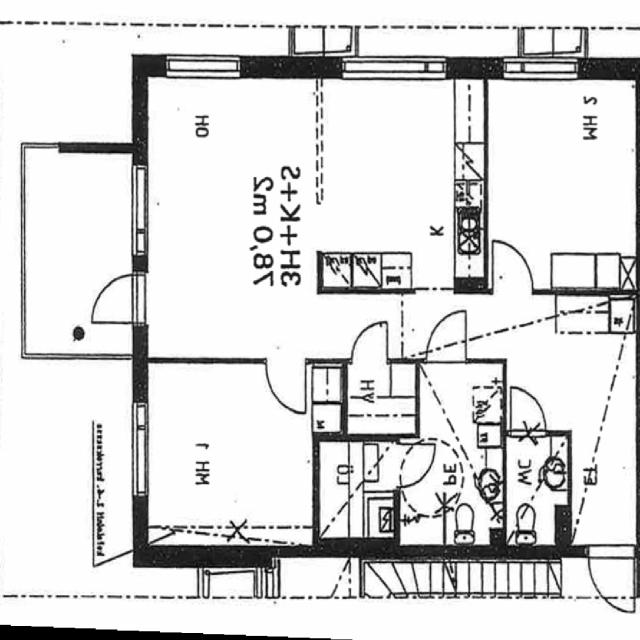door: (589, 544, 635, 614), (92, 274, 148, 323), (426, 310, 466, 364), (266, 358, 306, 411), (493, 242, 533, 295), (352, 315, 388, 364), (394, 444, 435, 486), (511, 388, 546, 435)
